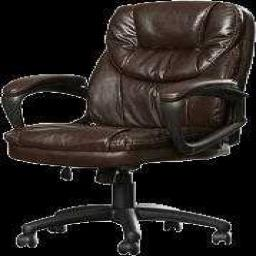Chair: (2, 0, 256, 254)
